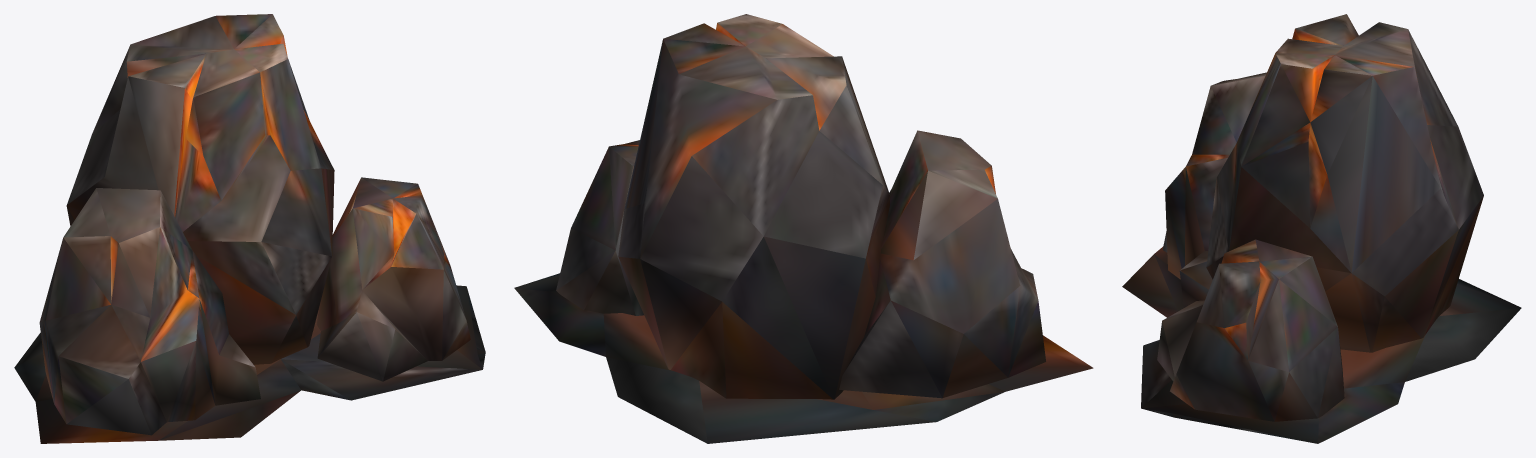
Rendered from k-roche-semis.glb.
3 renders of one model, left to right at view 1: azimuth 30°, elevation 25°; view 2: azimuth 150°, elevation 25°; view 3: azimuth 270°, elevation 25°, orthographic. The views are drawn at different scales.
Visible parts, largest first — view 1: k-roche-semis; view 2: k-roche-semis; view 3: k-roche-semis.
Boxes of the visible parts, bbox=[...] form: k-roche-semis: bbox=[14, 14, 485, 443]; k-roche-semis: bbox=[514, 14, 1093, 443]; k-roche-semis: bbox=[1122, 14, 1521, 443].
Size of the model in its own units: 0.967 by 0.561 by 0.7041.
Materials: 1 (1 with a texture image).
